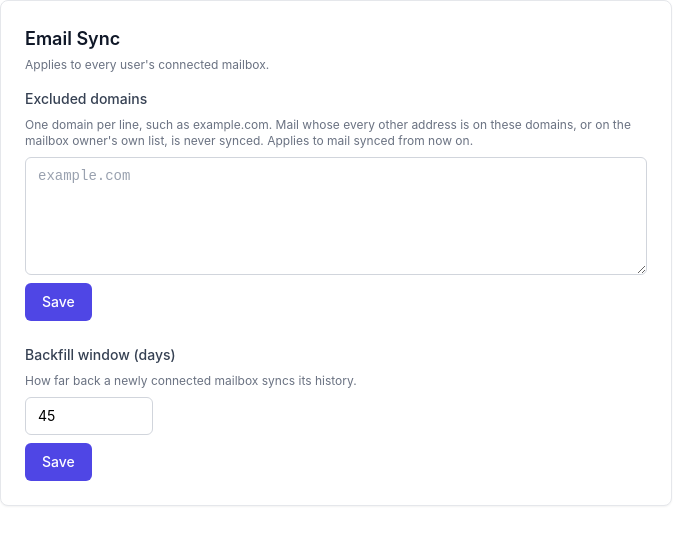
Test: EmailSyncSettings › reports a failed save of the list
Type "hr.example" into the text box with test id "email-sync-excluded-domains-input" at (336, 216), box [25,157,647,275]
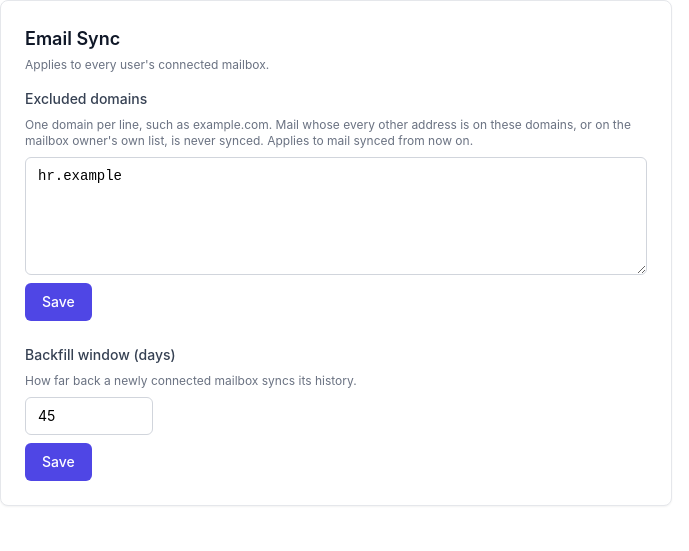
Click the button with test id "email-sync-domains-save" at (58, 302), box [25,283,92,321]
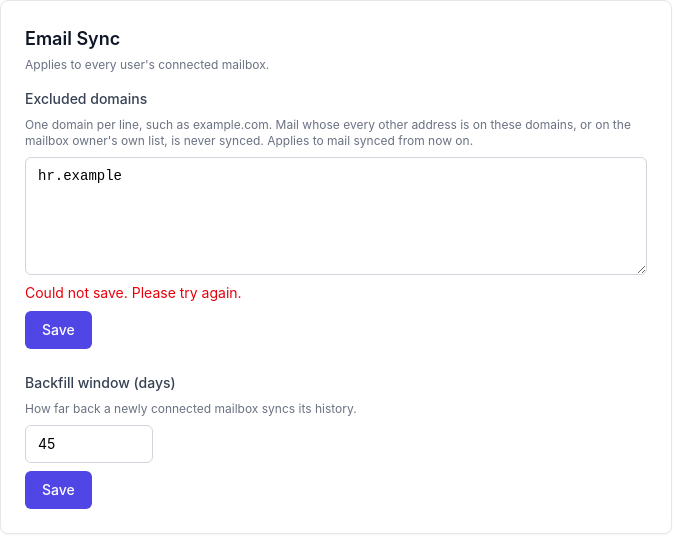
Result: the message "Could not save. Please try again." is shown at [25,284,242,301]
